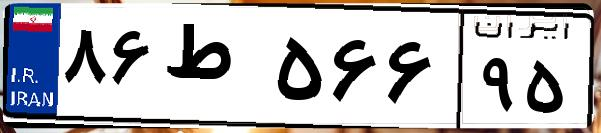5: (270, 28, 330, 110), (525, 38, 570, 115)
6: (385, 28, 445, 110), (330, 28, 385, 110), (110, 28, 158, 98)
8: (57, 26, 110, 100)
9: (475, 38, 525, 113)
ط: (158, 20, 270, 120)
